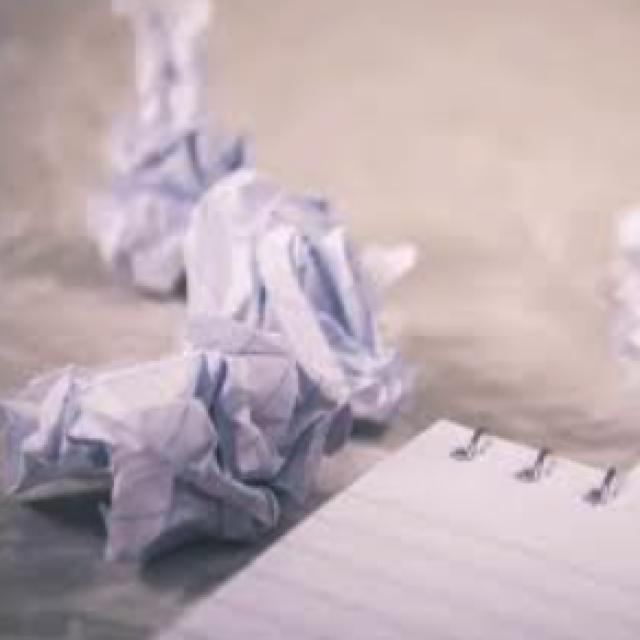KertasBekas: (0, 164, 419, 565)
